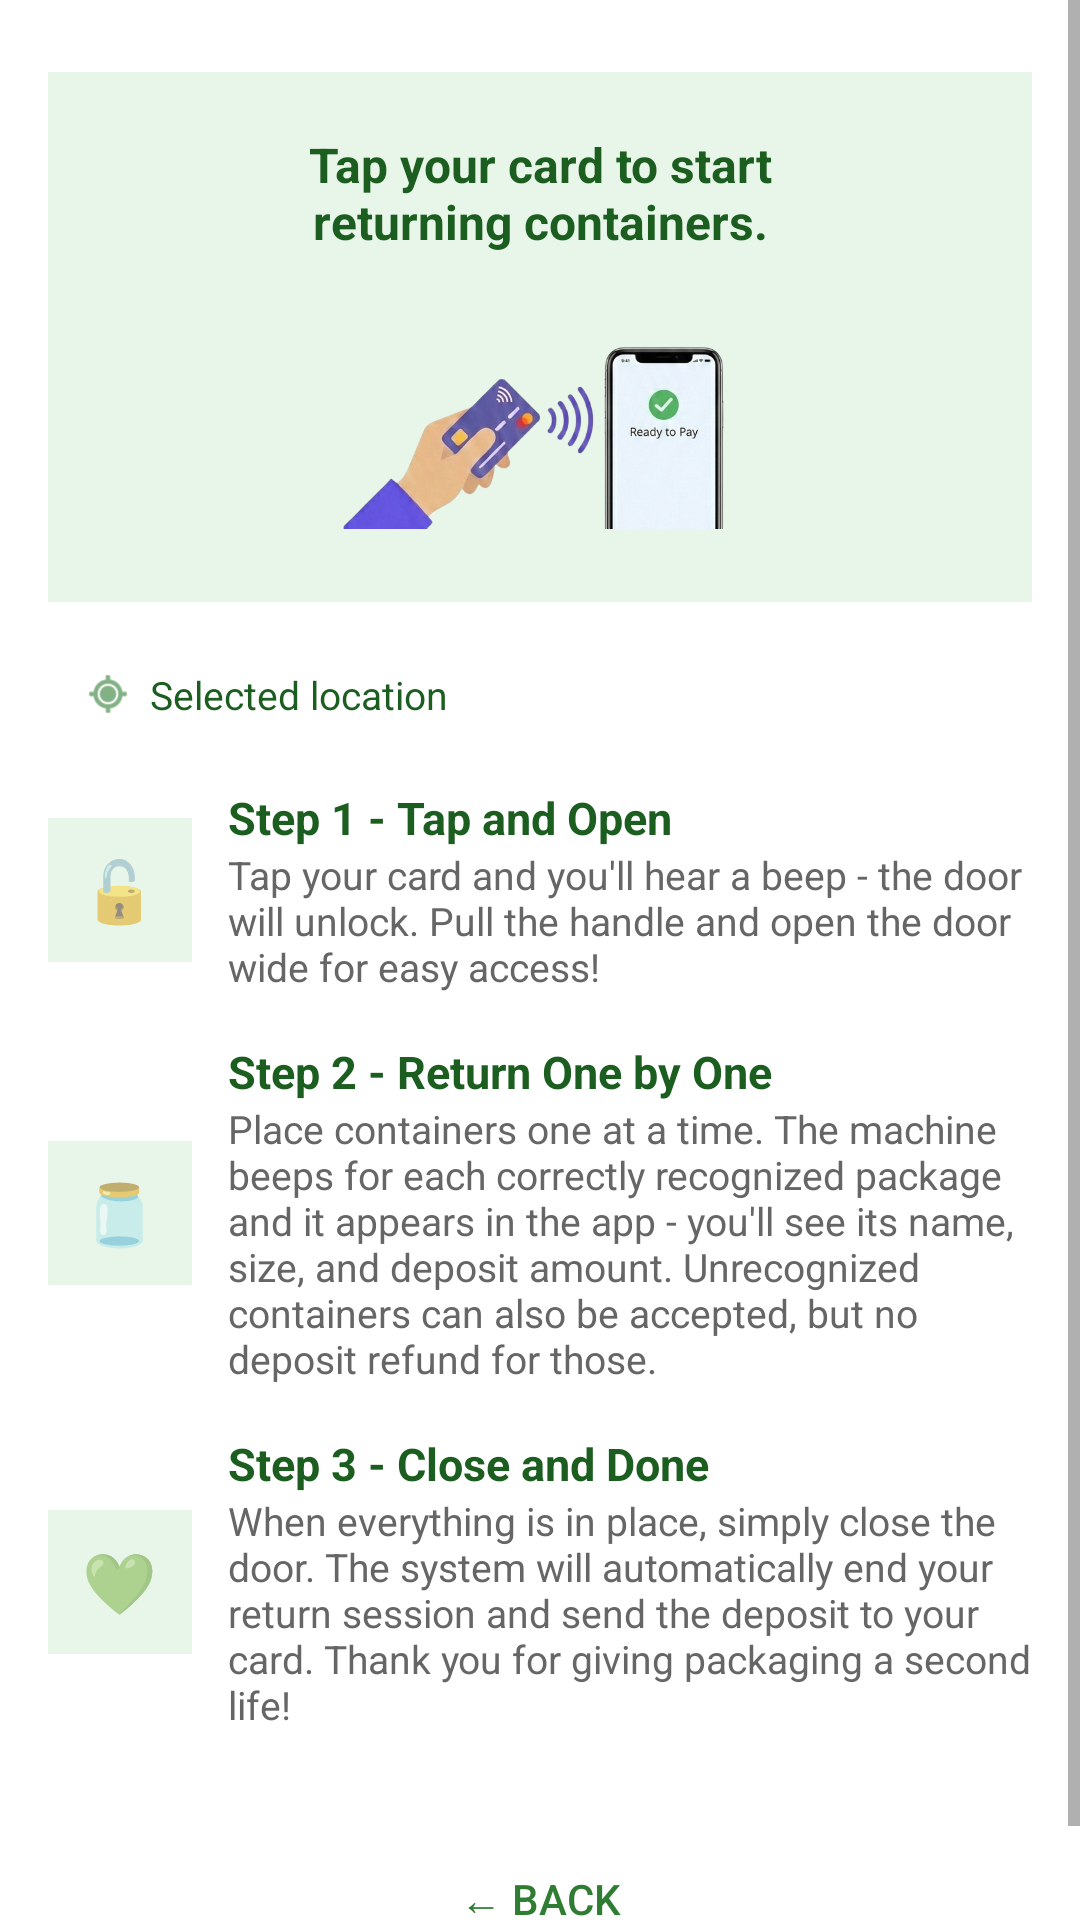

Icons on this 1080px x 1920px Android screen, each with its box as (x1, y1, x2, y2):
mylocation: (89, 675, 127, 713)
